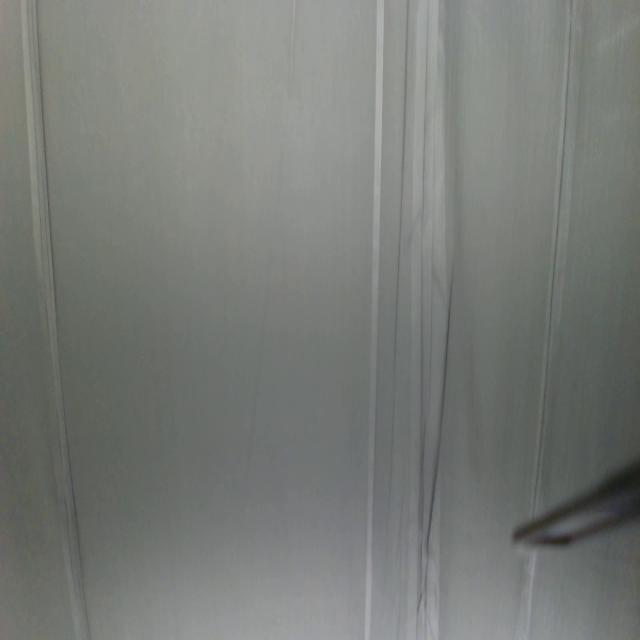crease: (363, 0, 456, 637), (20, 1, 93, 640), (531, 0, 575, 498), (284, 0, 300, 101), (521, 551, 535, 640)
